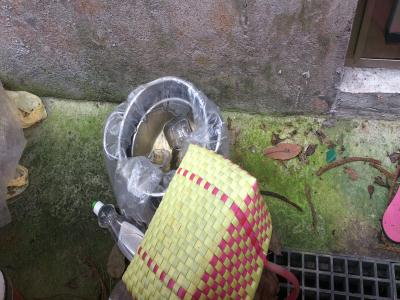bottle: (91, 200, 144, 260)
bowl: (117, 76, 227, 199)
plastic_bag: (121, 145, 274, 300)
